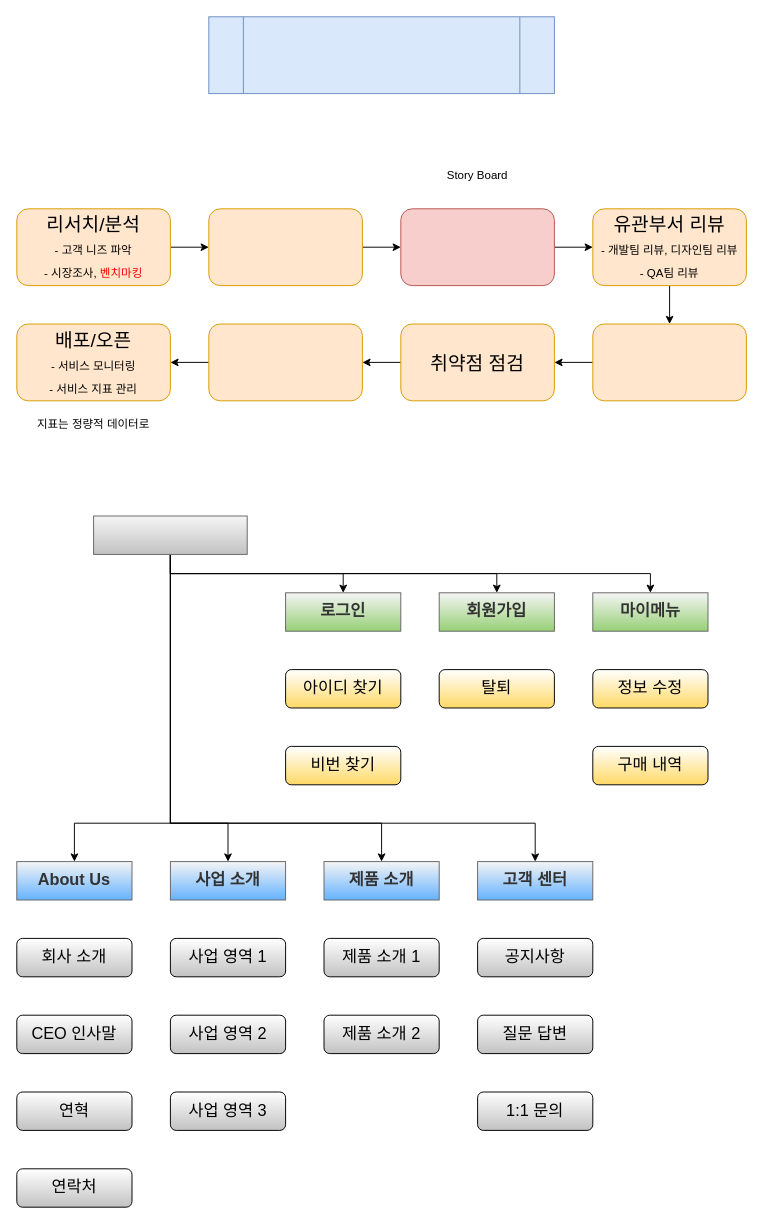
The diagram is 763 pixels wide and 1224 high, and some of its shapes have lost their labels. Each missing label, with the centre of its shape:
HOME: (170,534)
QA ; 품질보장: (285,362)
Service Planning: (381,55)
기획 문서 작성 - 서비스 정책, 프로세스 - PR, WBS, IA, WF, SB: (477,247)
디자인/개발: (669,362)
요구사항 정의 - 추진 배경, 목표 설정 - PRD 작성, 리스크 검토: (285,247)
